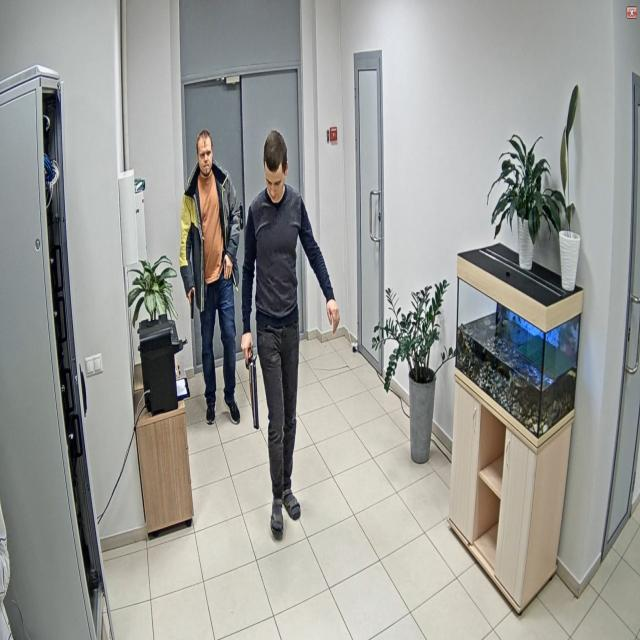-Gun: (246, 348, 258, 429), (191, 289, 194, 319)
